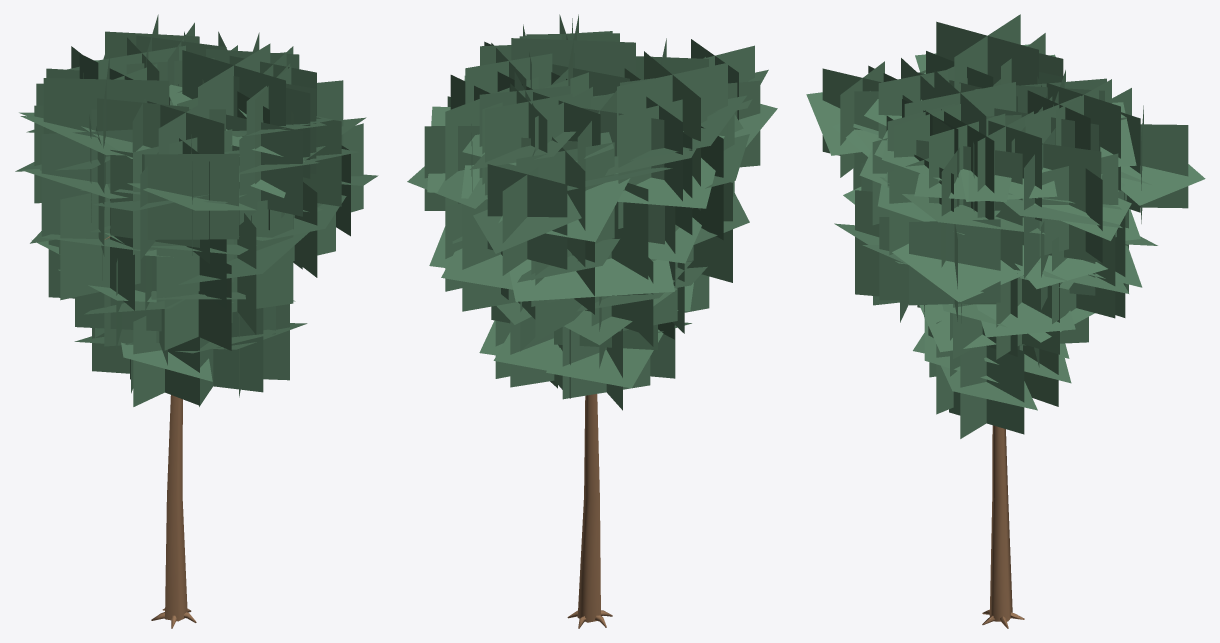
Rendered from pin_3_f2_loin.glb.
3 renders of one model, left to right at view 1: azimuth 30°, elevation 25°; view 2: azimuth 150°, elevation 25°; view 3: azimuth 270°, elevation 25°, orthographic. The views are drawn at different scales.
Parts seen in each view (by area): view 1: Pin_T3_f2_Leger_Loin; view 2: Pin_T3_f2_Leger_Loin; view 3: Pin_T3_f2_Leger_Loin.
Part boxes in pixels (x1=…): Pin_T3_f2_Leger_Loin: x1=15, y1=14, x2=378, y2=628; Pin_T3_f2_Leger_Loin: x1=407, y1=14, x2=777, y2=628; Pin_T3_f2_Leger_Loin: x1=806, y1=14, x2=1205, y2=628.
Bounding box in the file's own units: 10.62 × 17.21 × 11.36.
